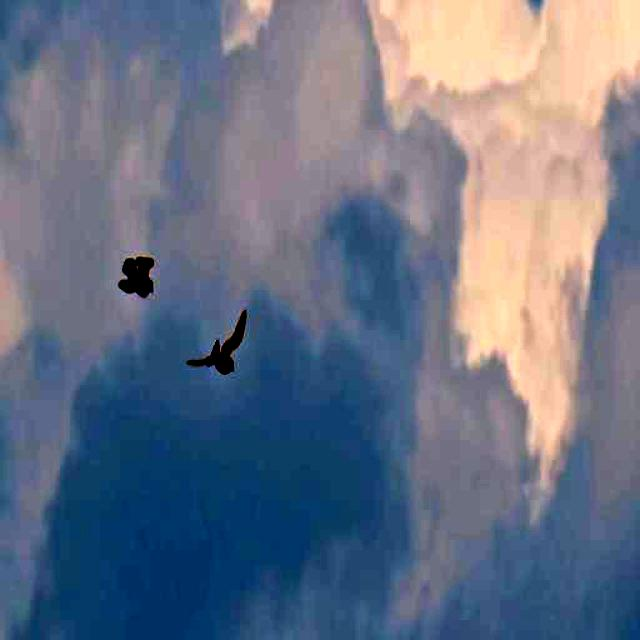airplane: (186, 308, 268, 401), (114, 234, 166, 319)
